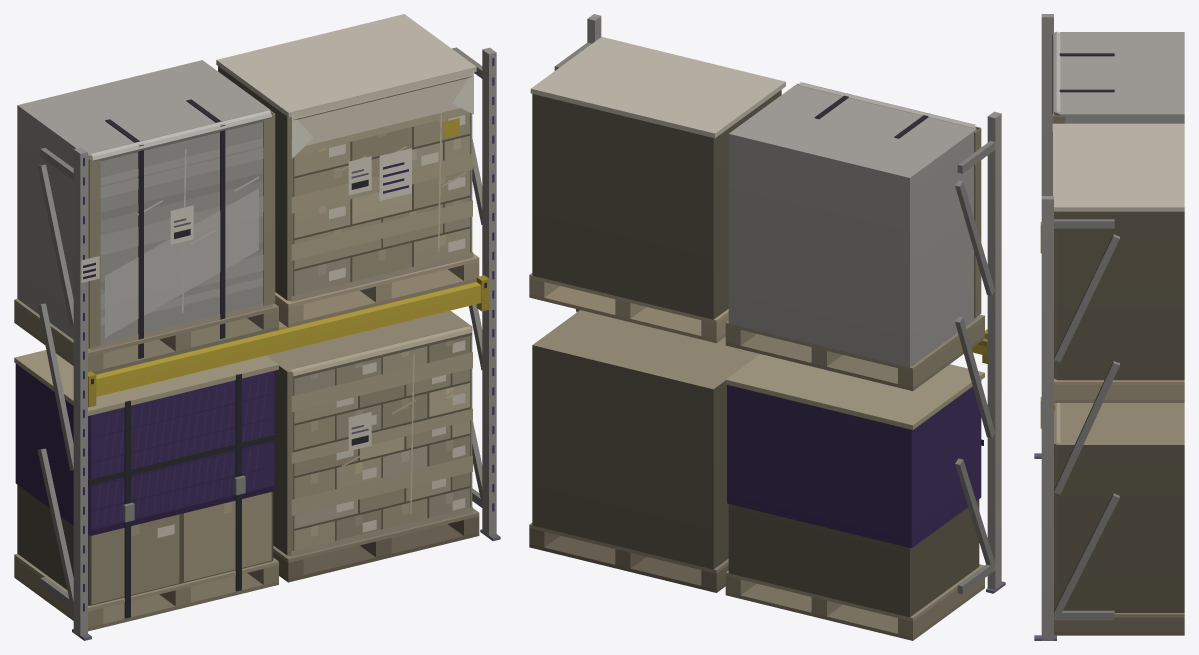
Rendered from wrapped_racking_b.glb.
3 views of the same model, side by side, from view 1: azimuth 30°, elevation 25°; view 2: azimuth 150°, elevation 25°; view 3: azimuth 270°, elevation 25° (orthographic). The views are drawn at different scales.
Parts seen in each view (by area): view 1: wrapped_racking; view 2: wrapped_racking; view 3: wrapped_racking.
Part boxes in pixels (x1,y1,x2,y2): wrapped_racking: [14, 14, 500, 640]; wrapped_racking: [529, 14, 1005, 640]; wrapped_racking: [1034, 14, 1184, 640].
Size of the model in its own units: 2.7 by 3 by 0.925.
